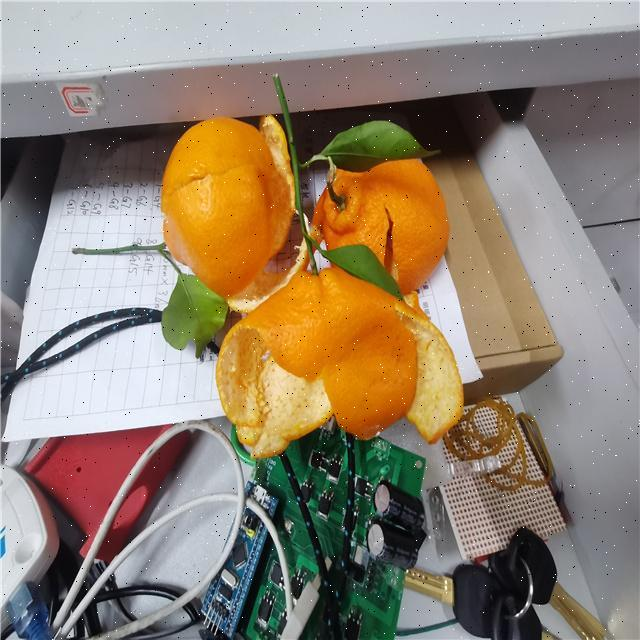orange-peel: (159, 113, 465, 459), (159, 114, 294, 297)
